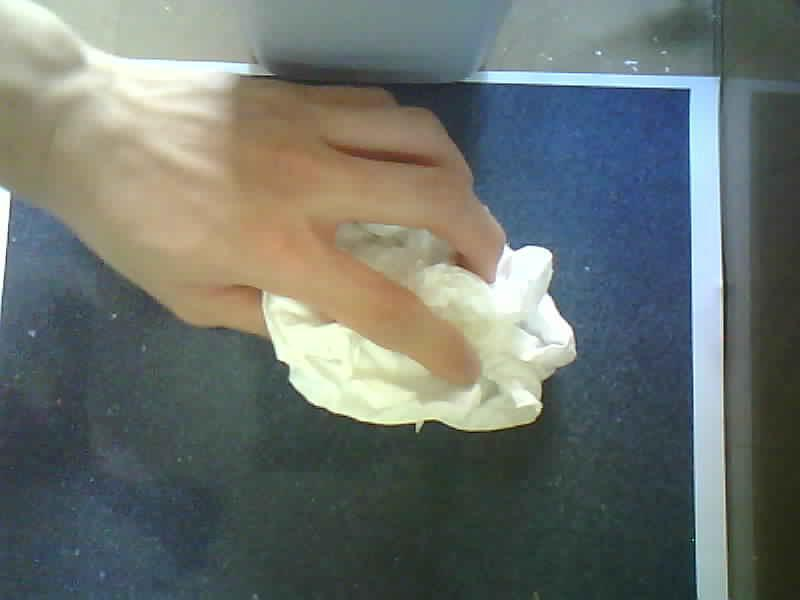paper: (265, 154, 585, 431)
